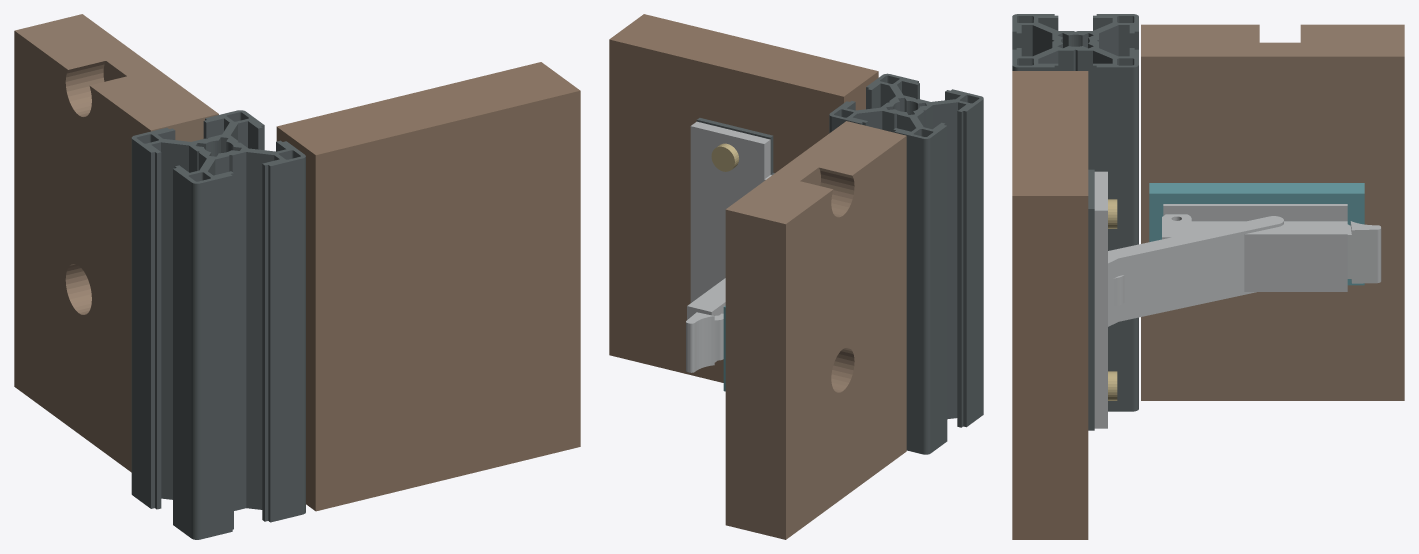
The model's file is hinge-detail.glb.
The picture shows the model from 3 angles, left to right: view 1: azimuth 30°, elevation 25°; view 2: azimuth 150°, elevation 25°; view 3: azimuth 270°, elevation 25°; orthographic projection. The views are drawn at different scales.
Visible parts, largest first — view 1: Left-door-face-18, Post-4-23, Left-pegboard-18; view 2: Left-pegboard-18, Left-door-face-18, Post-4-23, Blum-1-cup-envelope, Blum-1-factory-clip, Blum-1-cup-screw-915.5, Blum-1-70T3507.21-envelope; view 3: Left-pegboard-18, Left-door-face-18, Post-4-23, Blum-1-housing-envelope, Blum-1-factory-clip, Blum-1-spacer-6, Blum-1-cup-envelope, Blum-1-plate-envelope, Blum-1-70T3507.21-envelope.
Boxes of the visible parts, x1,y1,x2,y2 form: Left-door-face-18: (276, 62, 580, 511); Post-4-23: (131, 110, 305, 539); Left-pegboard-18: (14, 14, 218, 472); Left-pegboard-18: (725, 121, 906, 539); Left-door-face-18: (609, 14, 878, 382); Post-4-23: (829, 73, 983, 454); Blum-1-cup-envelope: (690, 121, 771, 302); Blum-1-factory-clip: (686, 278, 725, 372); Blum-1-cup-screw-915.5: (711, 143, 739, 171); Blum-1-70T3507.21-envelope: (696, 118, 774, 175); Left-pegboard-18: (1141, 24, 1404, 400); Left-door-face-18: (1012, 71, 1088, 539); Post-4-23: (1012, 14, 1138, 411); Blum-1-housing-envelope: (1108, 216, 1283, 326); Blum-1-factory-clip: (1162, 214, 1381, 291); Blum-1-spacer-6: (1149, 183, 1364, 285); Blum-1-cup-envelope: (1094, 171, 1107, 428); Blum-1-plate-envelope: (1163, 204, 1347, 221); Blum-1-70T3507.21-envelope: (1088, 169, 1094, 430).
Bounding box in the file's own units: 0.102 × 0.09 × 0.093.
